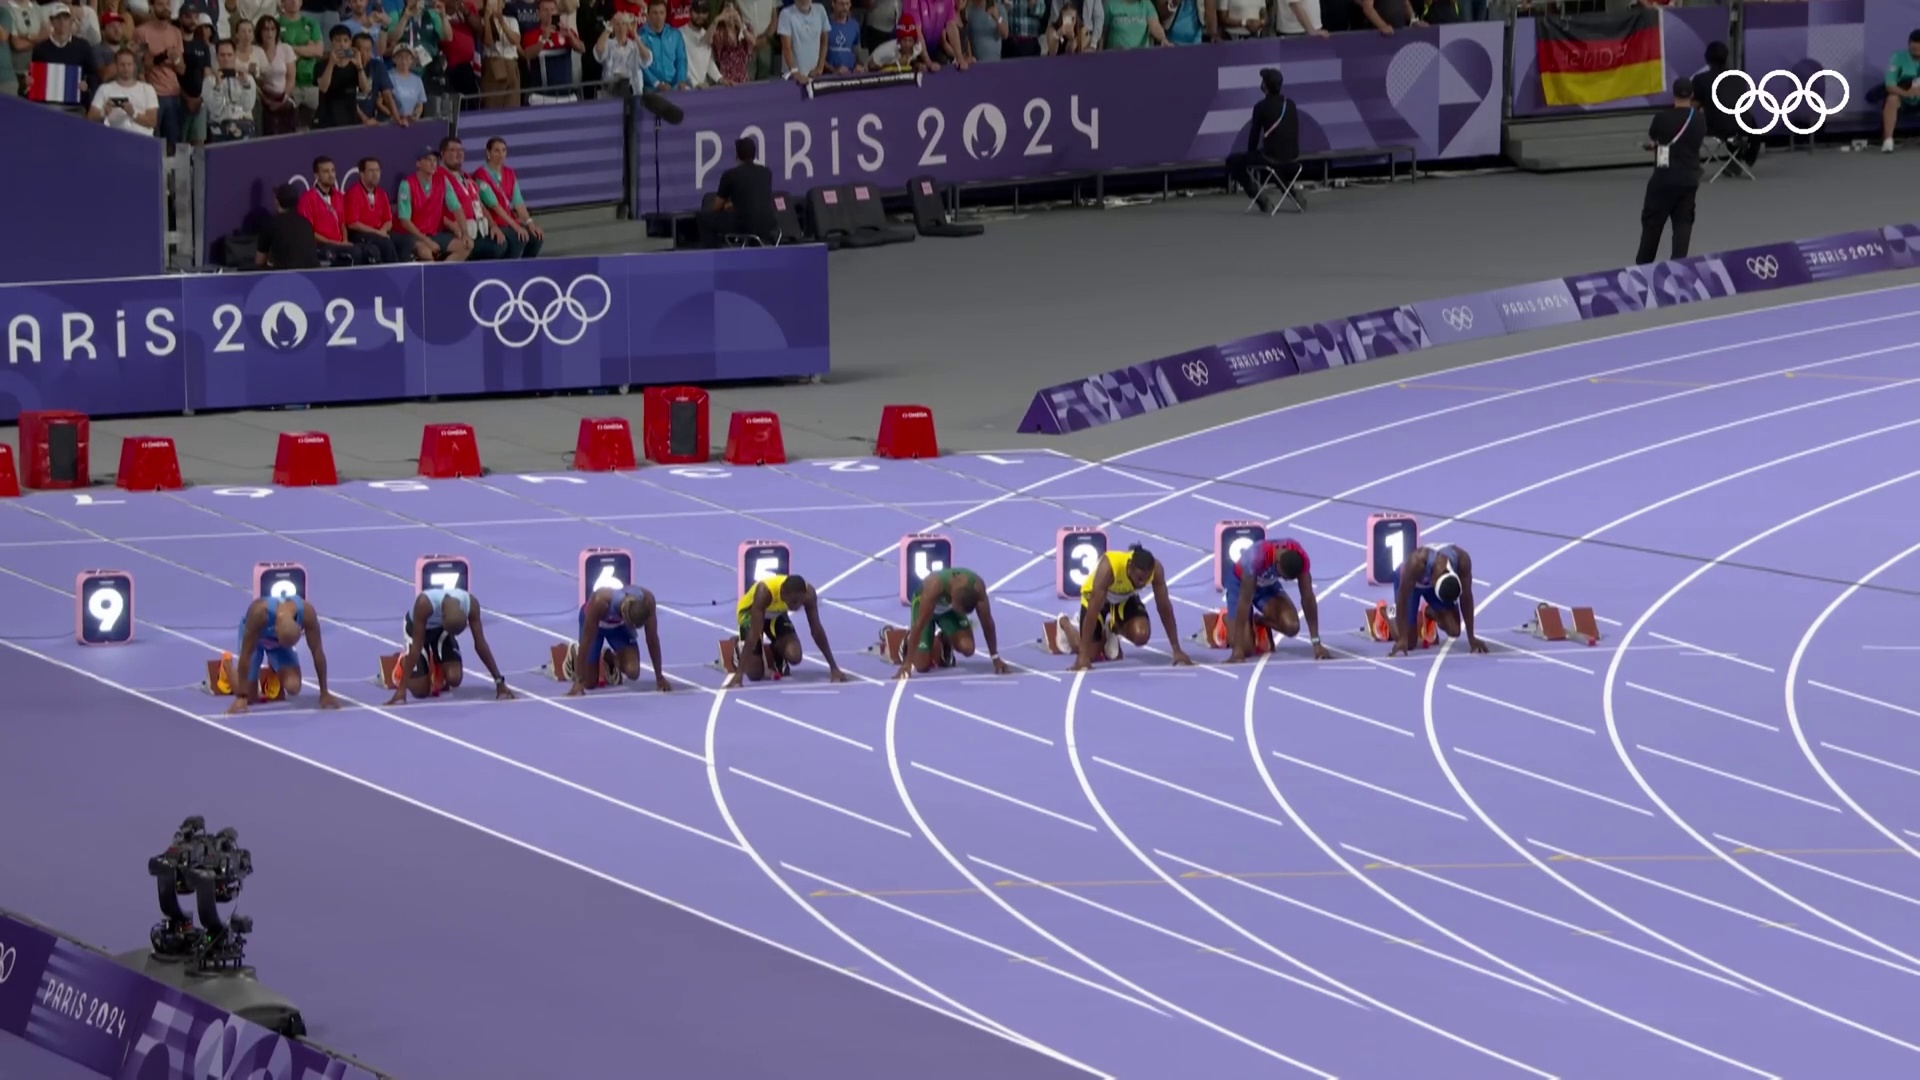roi: (178, 386, 1520, 807)
